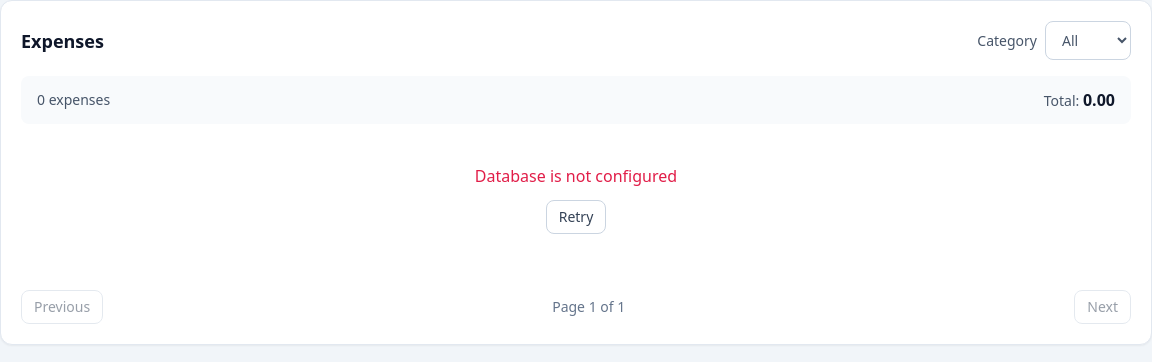
ExpenseList › shows an error state with retry
The width and height of the screenshot is (1152, 362).
Expected: the message shows "Database is not configured", left=475, top=165, right=677, bottom=187
What coordinates should you click on to do the following:
click the button "Retry"
I would click on:
 (576, 217)
Its box is left=546, top=200, right=606, bottom=234.
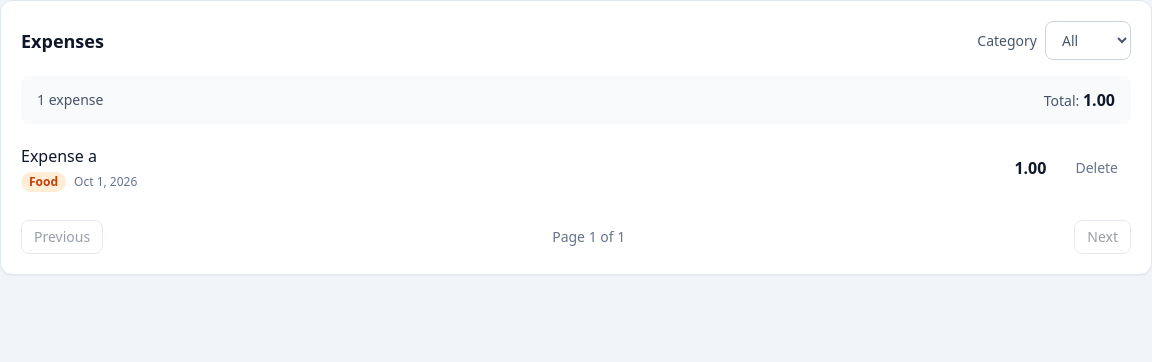
Now the text "Expense a" is shown, box left=21, top=145, right=97, bottom=167
